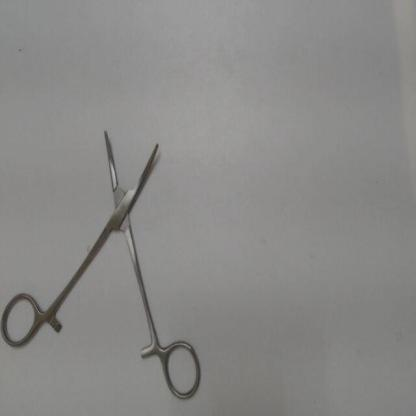Crile Artery Forceps: (2, 118, 206, 404)
